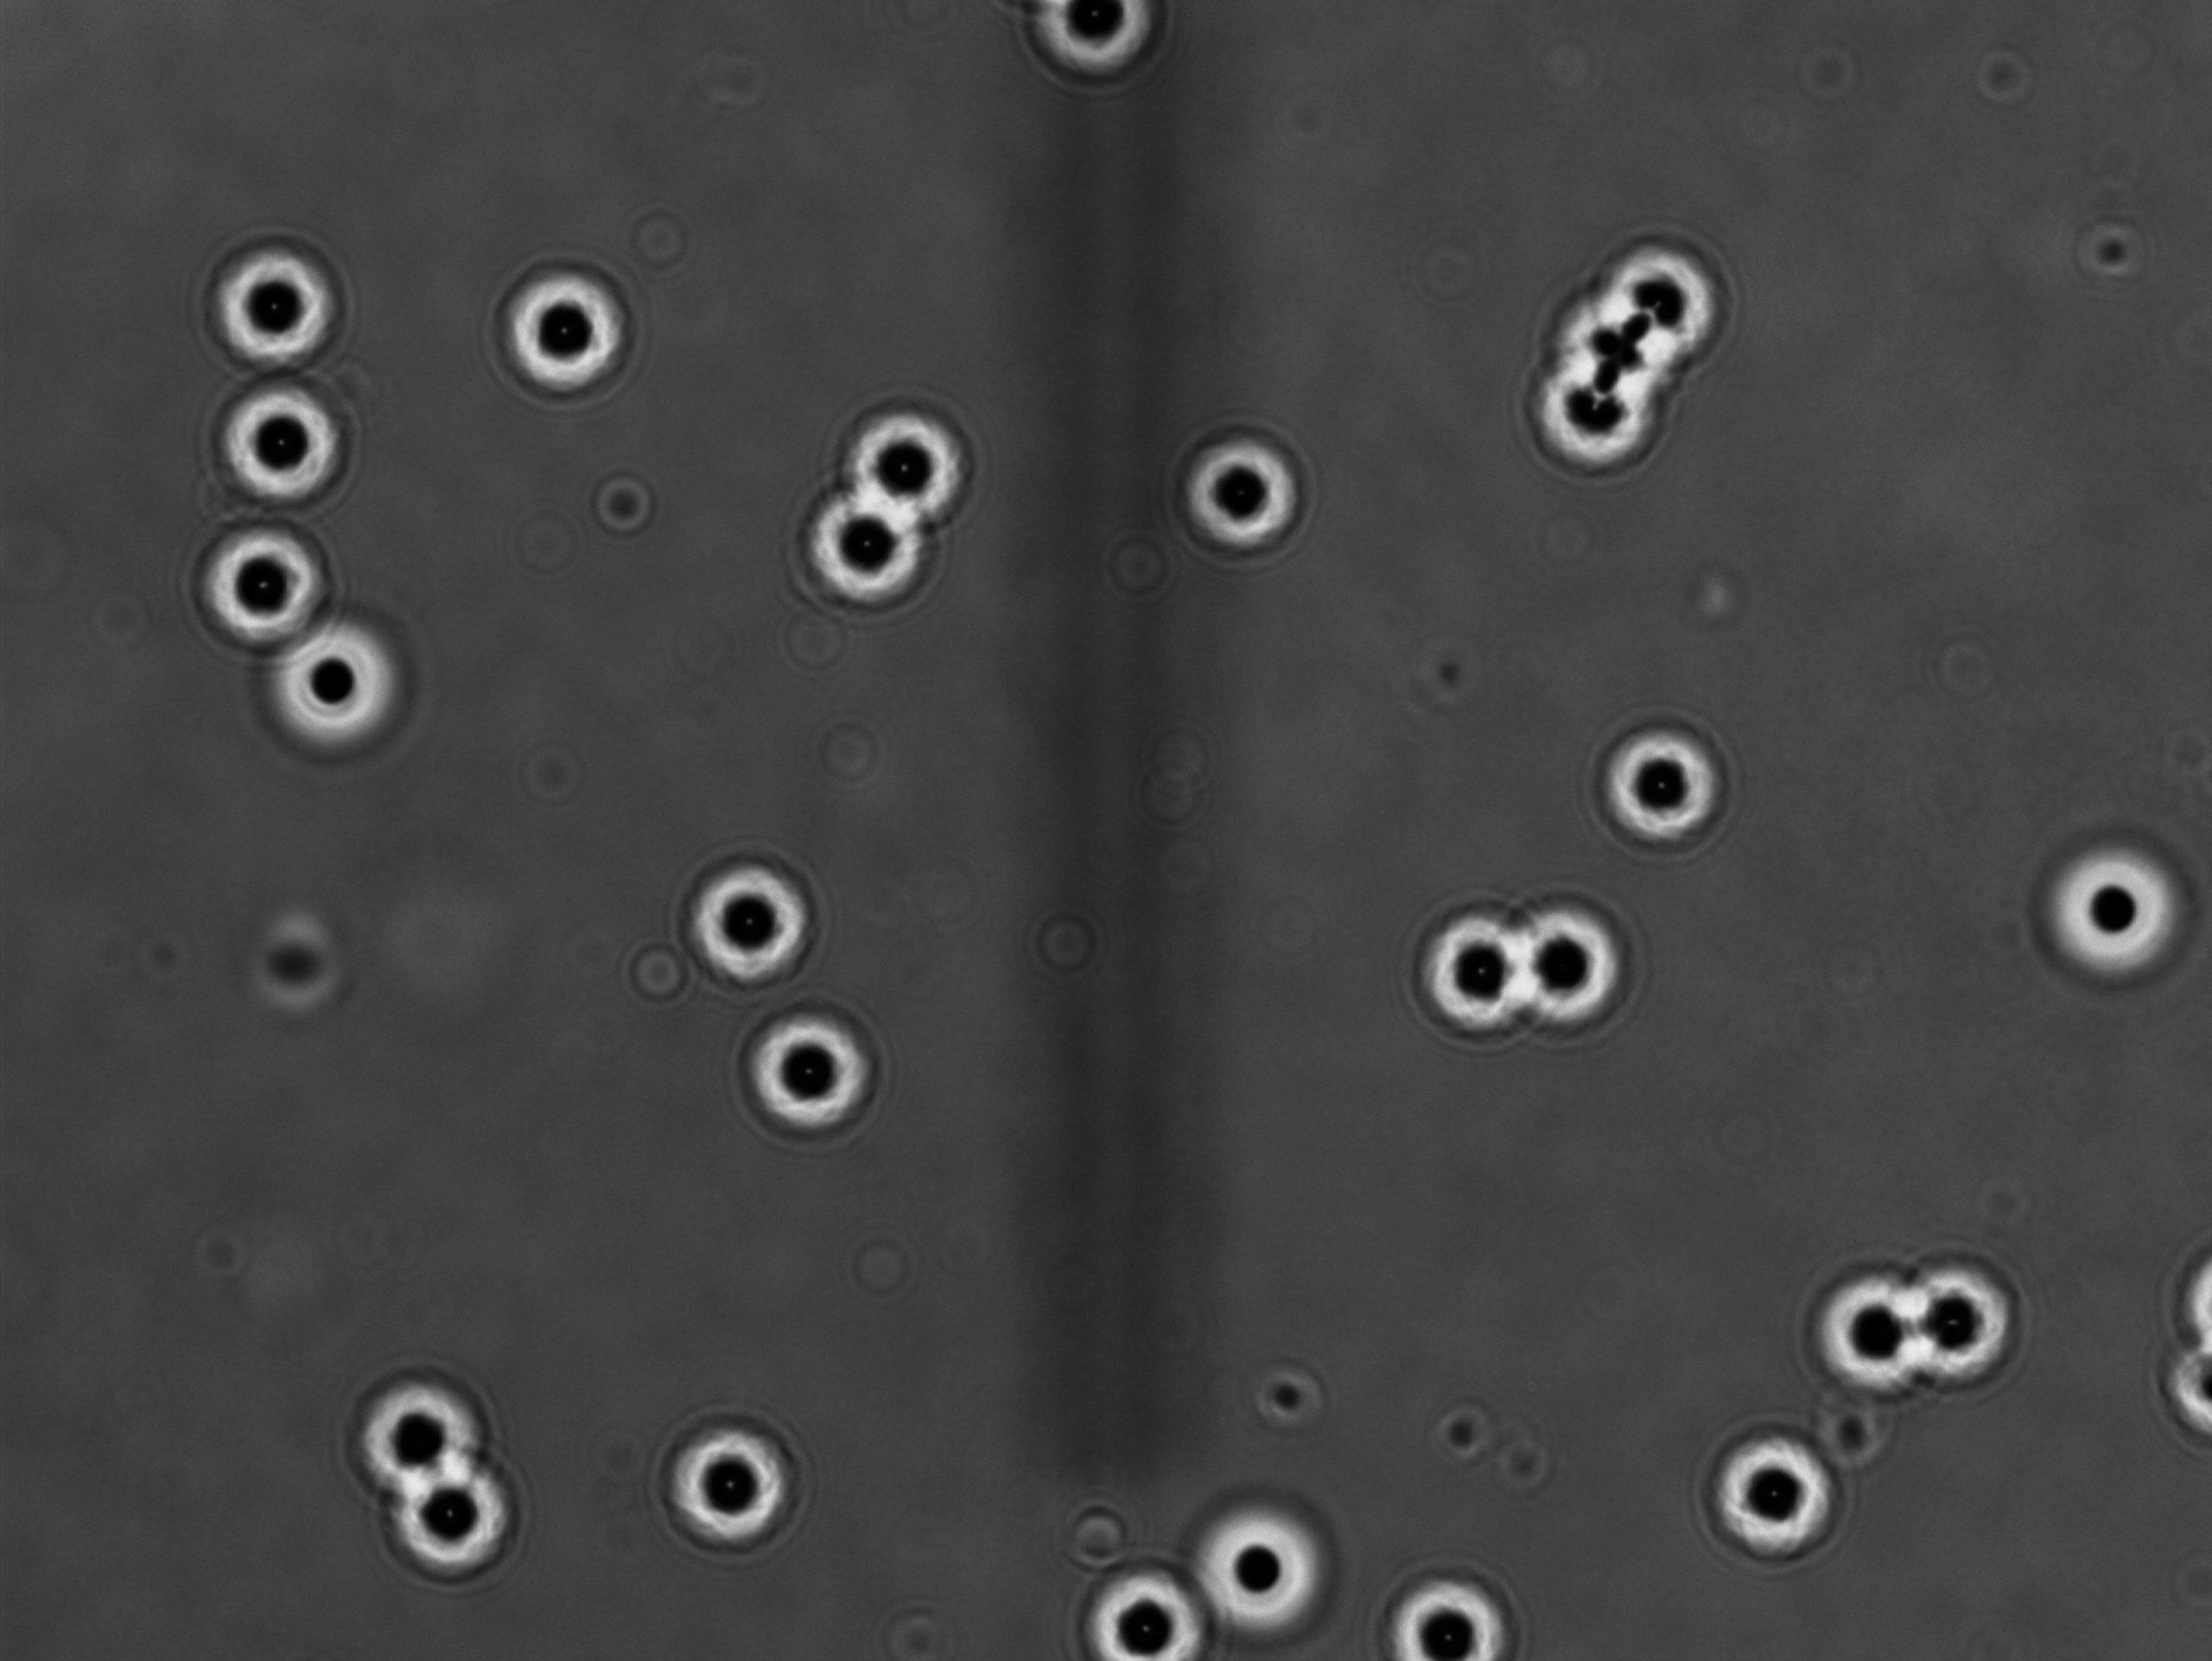depth:-20: (637, 1392, 827, 1563), (1809, 1235, 1975, 1410), (1682, 1429, 1851, 1595), (1504, 333, 1671, 497), (1921, 1241, 2079, 1410), (1490, 871, 1649, 1038), (745, 979, 904, 1143), (195, 361, 359, 518), (1584, 717, 1751, 871), (679, 841, 841, 998), (338, 1356, 508, 1506), (1551, 265, 1706, 426), (183, 229, 344, 382), (185, 504, 344, 658), (1389, 893, 1546, 1043), (1160, 414, 1314, 564), (488, 255, 640, 405), (771, 497, 930, 640), (380, 1459, 536, 1598), (1603, 213, 1751, 356), (830, 394, 979, 529), (1064, 1546, 1219, 1661), (1354, 1563, 1516, 1661)
